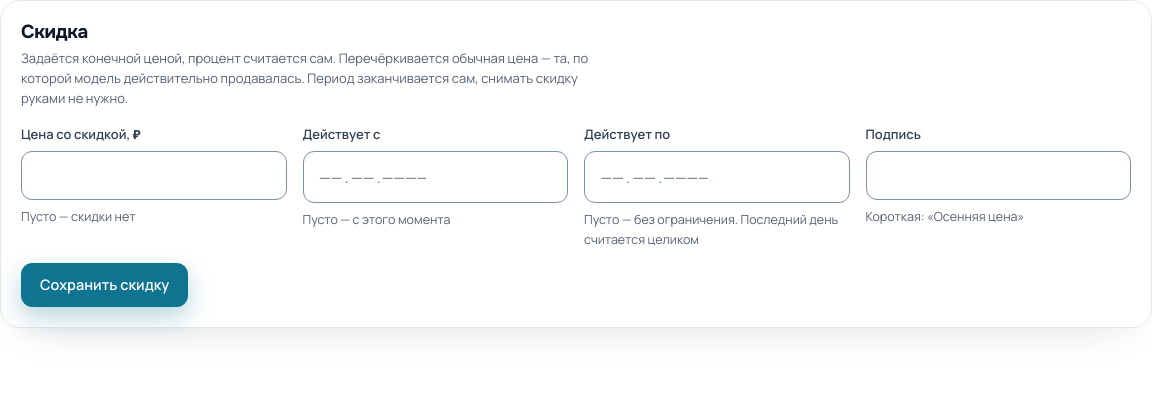
Test: Форма скидки › предпросмотр пересчитывается по ходу ввода
Expected: the text "На сайте" is not shown
In the number field labelled "Цена со скидкой, ₽": (154, 176) [21,151,286,200], type "19250"
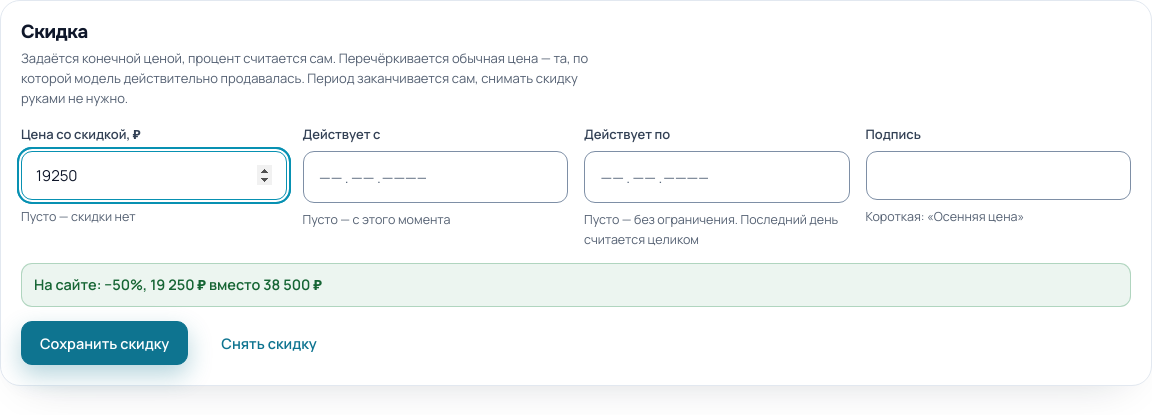
Expected: the text "На сайте: −50%, 19 250 ₽ вместо 38 500 ₽" is shown, [21,263,1131,308]
